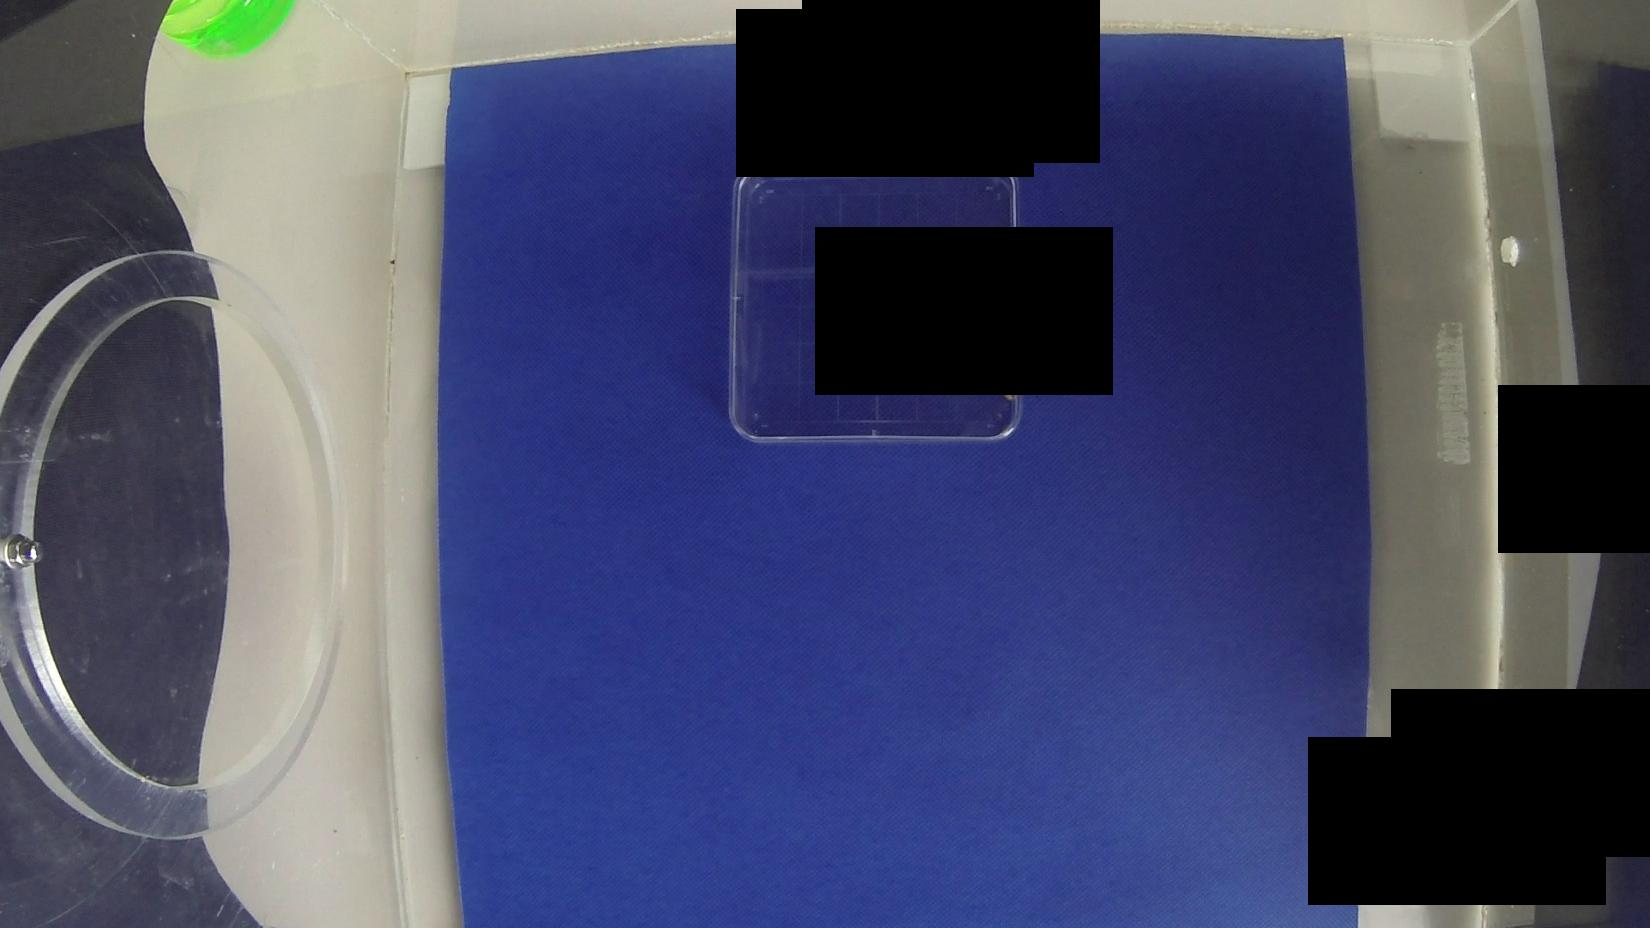larva: (986, 322, 1022, 403)
